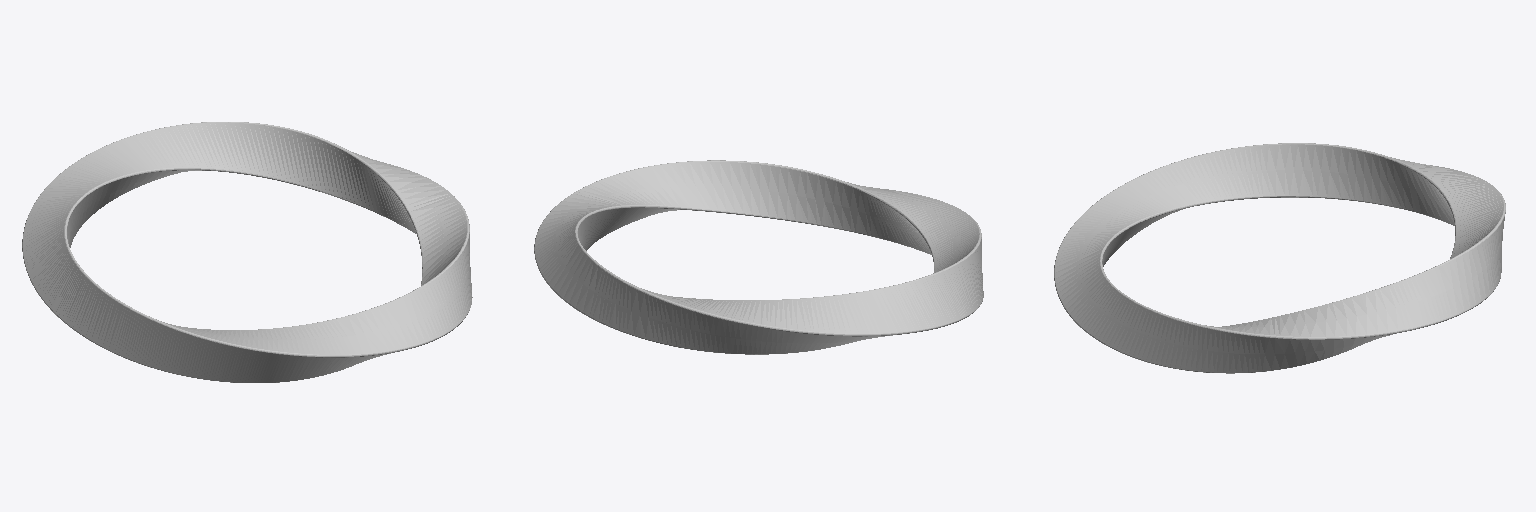
File: ring1.obj
The picture shows the model from 3 angles: view 1: azimuth 30°, elevation 25°; view 2: azimuth 150°, elevation 25°; view 3: azimuth 270°, elevation 25°; orthographic projection.
Visible parts, largest first — view 1: object_1; view 2: object_1; view 3: object_1.
Boxes of the visible parts, box(x1,y1,x2,y2) form: object_1: box(22, 122, 472, 382); object_1: box(534, 160, 983, 354); object_1: box(1054, 143, 1505, 373).
Bounding box in the file's own units: 25.42 × 5.62 × 25.27.